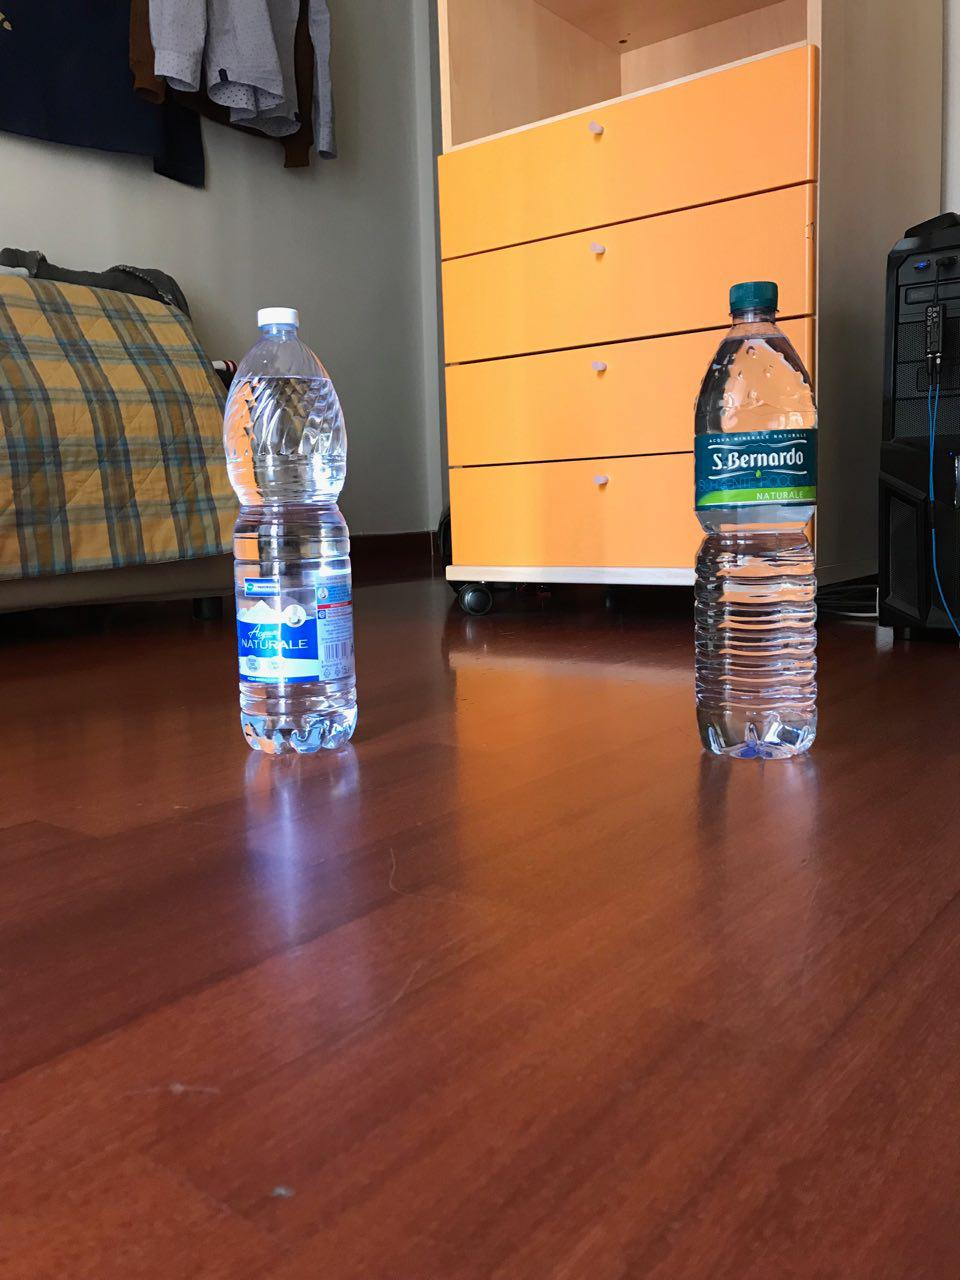san_bernardo: (693, 279, 819, 760)
